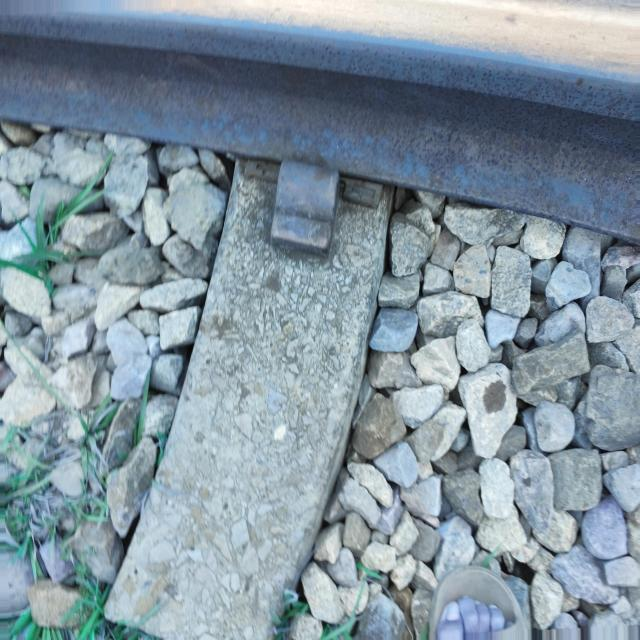Missing Fastener: (235, 153, 389, 268)
